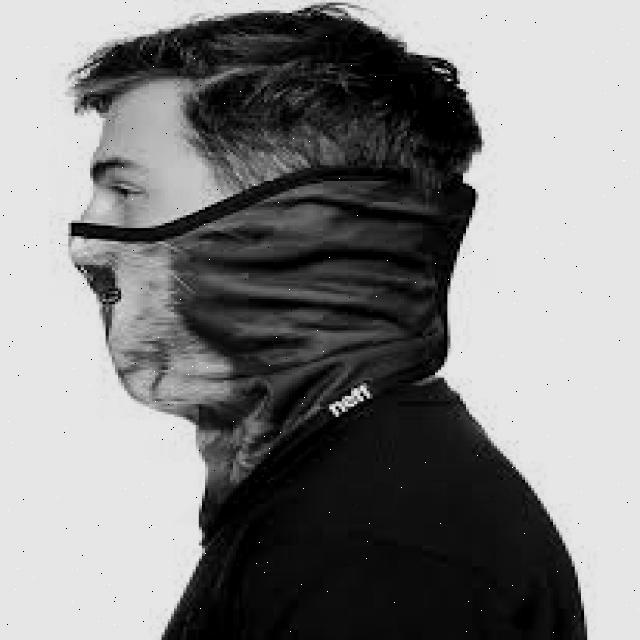fake: (65, 211, 339, 419)
real: (65, 80, 199, 407)
